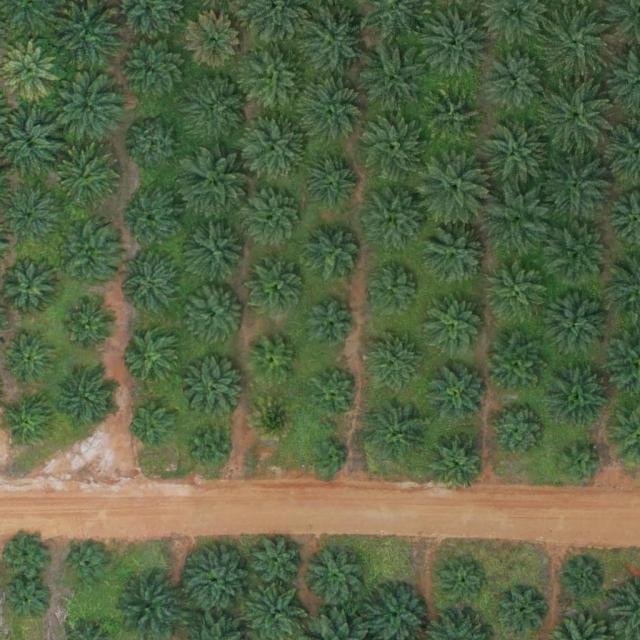Healthy: (541, 149, 612, 219), (480, 117, 551, 187), (420, 6, 490, 77), (299, 6, 369, 77), (53, 76, 123, 147), (539, 8, 609, 78), (542, 83, 612, 153), (484, 184, 554, 254), (421, 152, 491, 222), (357, 114, 427, 184), (360, 43, 430, 113), (184, 153, 254, 223), (550, 224, 613, 287), (547, 368, 610, 431), (424, 296, 487, 359), (364, 189, 427, 252), (367, 400, 430, 463), (244, 47, 307, 110), (187, 76, 250, 139), (547, 292, 609, 355), (489, 260, 551, 323), (488, 333, 550, 396), (425, 224, 487, 287), (300, 78, 362, 141), (242, 186, 305, 248), (57, 148, 120, 210), (60, 230, 122, 293), (124, 38, 186, 101), (186, 284, 248, 347), (58, 368, 120, 431), (184, 548, 246, 611), (426, 432, 488, 494), (244, 117, 306, 179), (184, 358, 246, 420), (2, 394, 57, 450), (492, 404, 547, 459), (427, 90, 482, 145), (432, 367, 487, 422), (367, 331, 422, 386), (251, 261, 306, 316), (2, 261, 57, 316), (128, 118, 183, 173), (129, 192, 184, 247), (123, 258, 178, 313), (190, 224, 245, 279), (127, 333, 182, 388), (66, 299, 121, 354), (4, 331, 59, 386), (249, 534, 304, 589), (366, 261, 420, 316), (303, 155, 357, 210), (307, 229, 361, 284), (490, 54, 544, 109), (308, 550, 362, 605), (311, 369, 358, 417)
Small: (251, 339, 298, 387), (307, 301, 354, 349), (440, 560, 487, 608), (558, 441, 605, 489), (187, 425, 234, 473), (501, 588, 548, 635), (131, 400, 178, 447), (2, 581, 49, 628), (64, 541, 111, 588), (563, 559, 603, 599), (312, 440, 351, 479)
Yellow: (186, 14, 241, 69), (3, 42, 57, 97), (251, 395, 298, 442)
